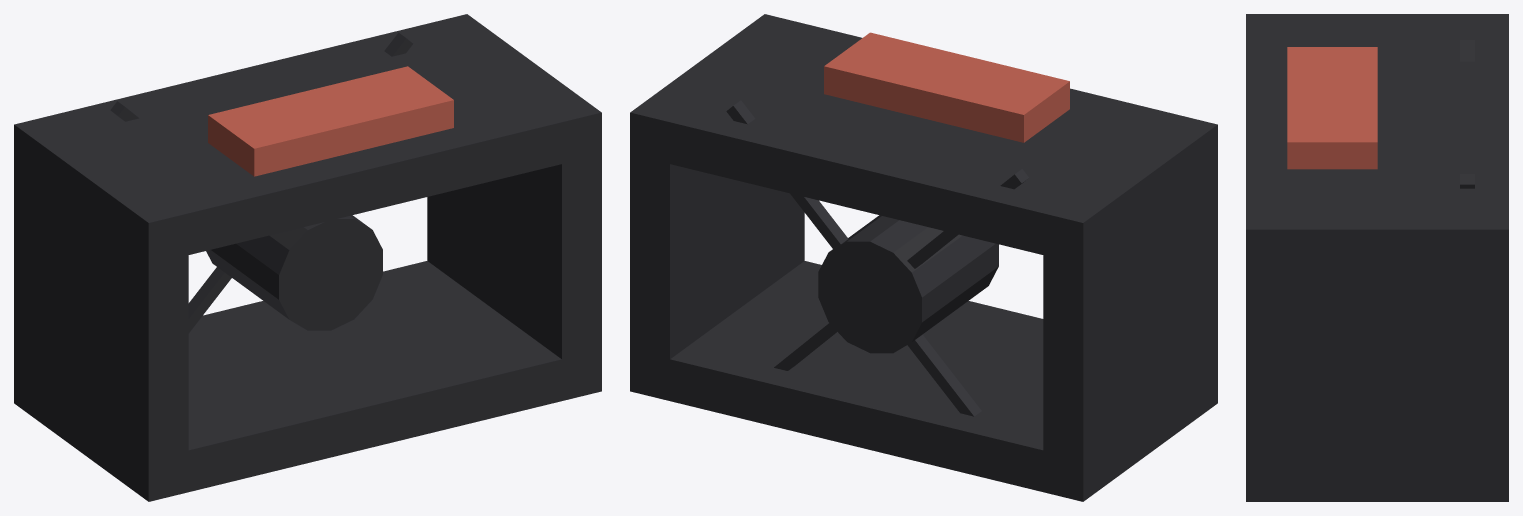
File: fan_module.fbx
The picture shows the model from 3 angles, left to right: view 1: azimuth 30°, elevation 25°; view 2: azimuth 150°, elevation 25°; view 3: azimuth 270°, elevation 25°; orthographic projection. The views are drawn at different scales.
Visible parts, largest first — view 1: Fan; view 2: Fan; view 3: Fan.
Boxes of the visible parts, x1,y1,x2,y2 form: Fan: (14,14,601,501); Fan: (630,14,1217,501); Fan: (1246,14,1508,501).
Size of the model in its own units: 0.068 by 0.0462 by 0.035.
